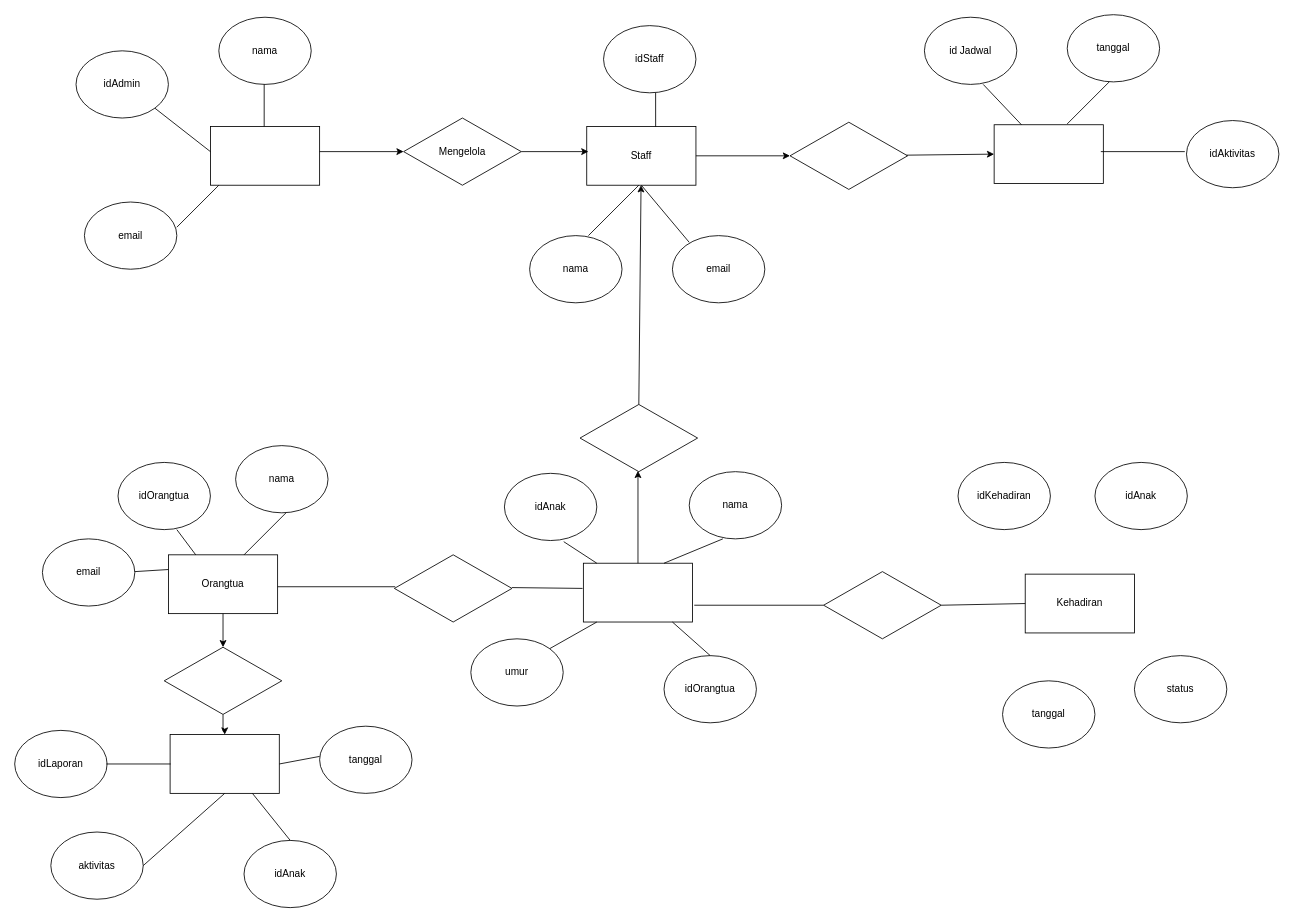
This 1294x922 diagram has some shape labels left out. Each missing label, with the centre of its shape:
Administrator: (265,155)
Anak: (638,592)
Dikelola: (638,438)
Jadwal: (1048,154)
Laporan: (224,763)
Melihat: (222,680)
Memasukkan: (453,588)
Membuat: (848,155)
Mencatat: (882,605)
